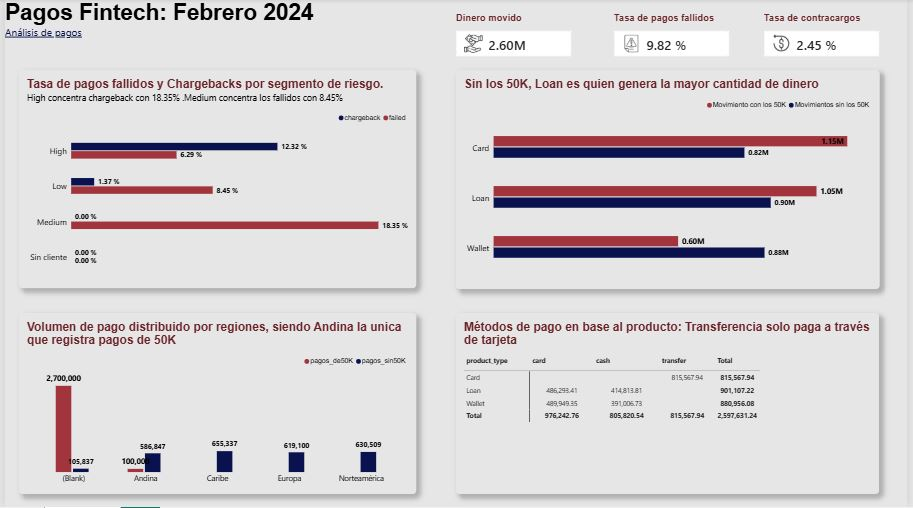

The page's visual inventory and layout, read from the dashboard file:
{"tool":"powerbi","page":{"name":"Page 1","canvas":[1920,1080],"ordinal":0},"visuals":[{"type":"clusteredColumnChart","title":"Volumen de pago distribuido por regiones, siendo Andina la unica que registra pagos de 50K","fields":{"Category":["regiones.region_name"],"Y":["Medidas.pagos_de50K","Medidas.pagos_sin50K"]},"box":[0,670.2,874.5,410.6],"z":0},{"type":"clusteredBarChart","title":"Tasa de pagos fallidos y Chargebacks por segmento de riesgo.","fields":{"Category":["pagos_limpios.risk_segment"],"Y":["Medidas.porcentaje_chargeback","Medidas.porcentaje_failed"]},"box":[0,151.1,874.5,463.8],"z":1000},{"type":"clusteredBarChart","title":"Sin los 50K, Loan es quien genera la mayor cantidad de dinero","fields":{"Category":["productos.product_type"],"Y":["Medidas.pagos_de50K","Medidas.pagos_sin50K"]},"box":[959.6,150,960,465],"z":3000},{"type":"pivotTable","title":"Metodos de pago en base al producto","fields":{"Columns":["pagos_limpios.pay_method"],"Rows":["productos.product_type"],"Values":["Medidas.pagos_sin50K"]},"box":[976.7,693,883.7,360.5],"z":3001},{"type":"cardVisual","fields":{"Data":["Medidas.pagos_sin50K"]},"box":[0,0,292.5,134.3],"z":3002},{"type":"cardVisual","fields":{"Data":["Medidas.Total_pagos"]},"box":[346.3,0,292.5,134.3],"z":3003},{"type":"cardVisual","fields":{"Data":["Medidas.pagos_de50K"]},"box":[728.4,0,292.5,134.3],"z":3004},{"type":"cardVisual","fields":{"Data":["Medidas.porcentaje_chargeback"]},"box":[1047.8,0,292.5,134.3],"z":3005},{"type":"cardVisual","fields":{"Data":["Medidas.porcentaje_failed"]},"box":[1394,0,292.5,134.3],"z":3006}]}

Visuals, with their boxes in screenshot pixels (x1, y1, x2, y2), scaled from the page's 1920x1080 canvas onto the 913x508 screenshot:
"Volumen de pago distribuido por regiones, siendo Andina la unica que registra pagos de 50K" clusteredColumnChart: 0:315:416:507
"Tasa de pagos fallidos y Chargebacks por segmento de riesgo." clusteredBarChart: 0:71:416:289
"Sin los 50K, Loan es quien genera la mayor cantidad de dinero" clusteredBarChart: 456:71:912:289
"Metodos de pago en base al producto" pivotTable: 464:326:885:496
cardVisual - Medidas.pagos_sin50K: 0:0:139:63
cardVisual - Medidas.Total_pagos: 165:0:304:63
cardVisual - Medidas.pagos_de50K: 346:0:485:63
cardVisual - Medidas.porcentaje_chargeback: 498:0:637:63
cardVisual - Medidas.porcentaje_failed: 663:0:802:63
